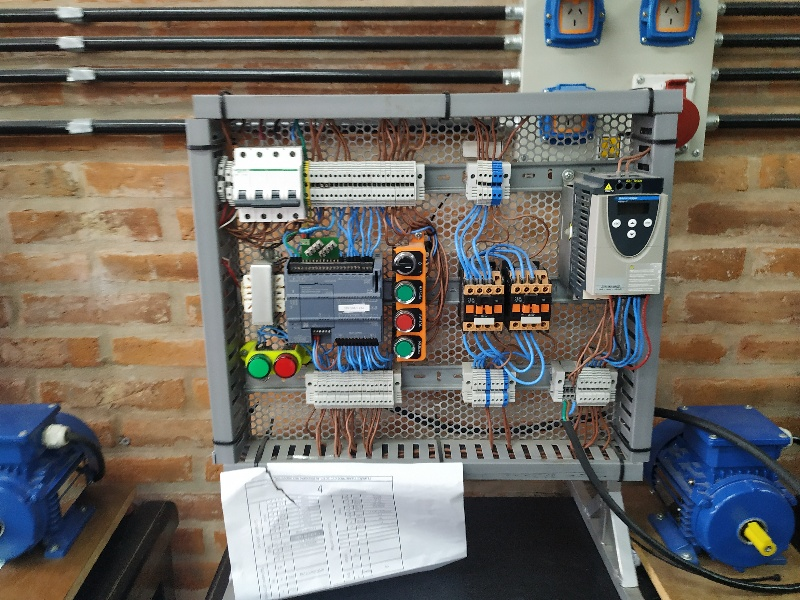Tablero 4: (205, 108, 667, 472)
